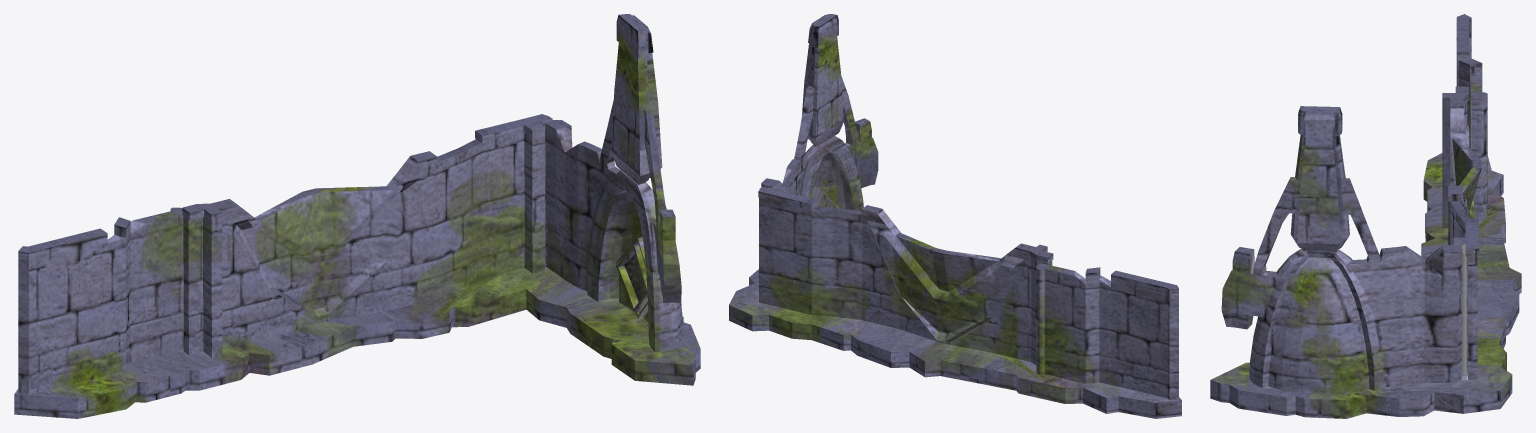
The picture shows the model from 3 angles, left to right: view 1: azimuth 30°, elevation 25°; view 2: azimuth 150°, elevation 25°; view 3: azimuth 270°, elevation 25°; orthographic projection. The views are drawn at different scales.
Size of the model in its own units: 19.37 by 10.11 by 9.84.
Materials: 1 (1 with a texture image).
